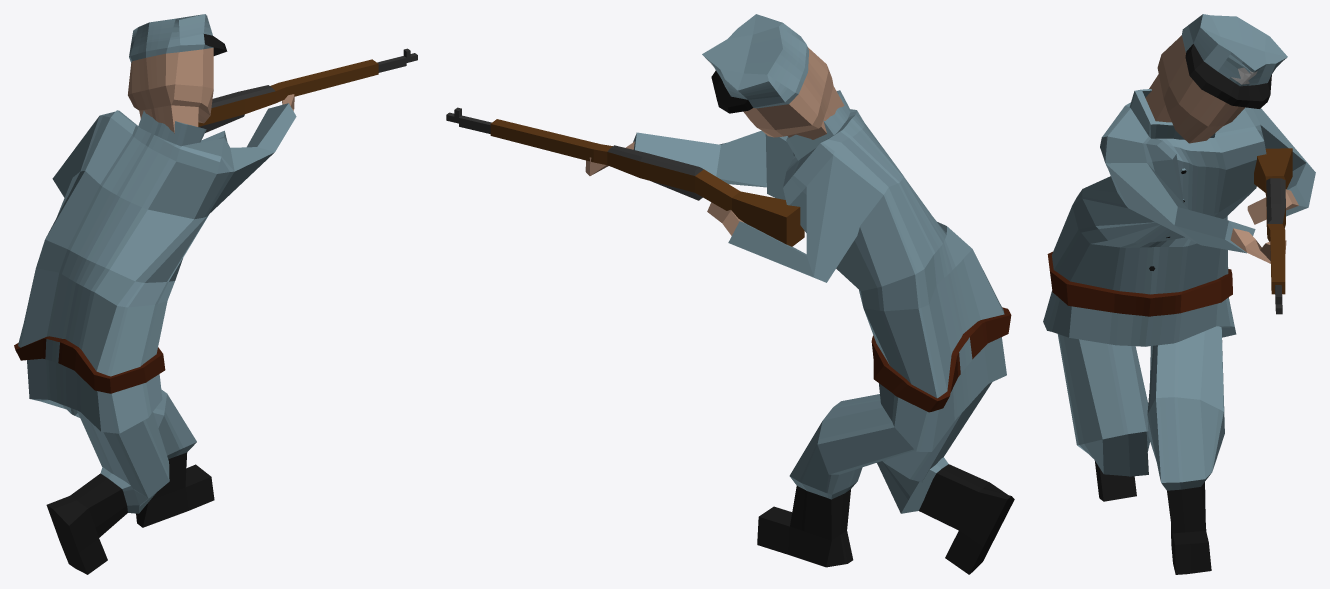
The model's file is Zolnierze3PL.fbx.
3 views of the same model, side by side, from view 1: azimuth 30°, elevation 25°; view 2: azimuth 150°, elevation 25°; view 3: azimuth 270°, elevation 25° (orthographic). The views are drawn at different scales.
Visible parts, largest first — view 1: Sold.000, Mauser; view 2: Sold.000, Mauser; view 3: Sold.000, Mauser.
Part boxes in pixels (<box>): Sold.000: <box>14,14,296,574</box>; Mauser: <box>198,48,417,132</box>; Sold.000: <box>585,14,1014,574</box>; Mauser: <box>446,107,804,246</box>; Sold.000: <box>1043,14,1315,574</box>; Mauser: <box>1254,148,1292,314</box>.
Size of the model in its own units: 418 by 447 by 196.
